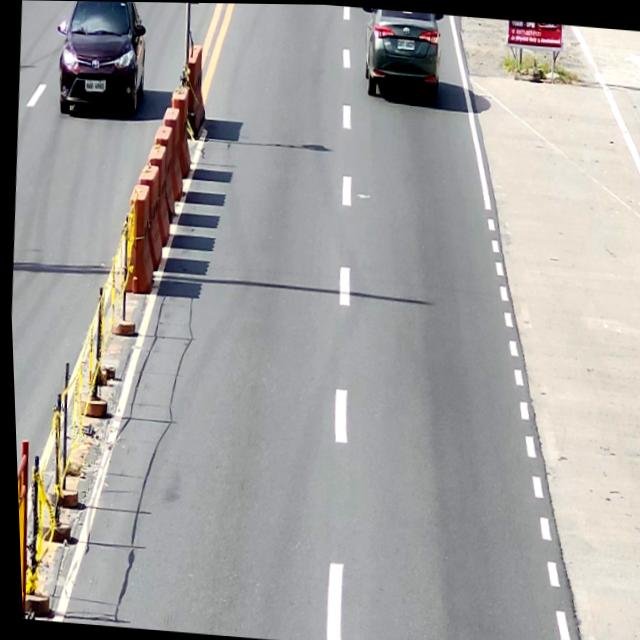Car: (50, 1, 151, 120), (355, 7, 445, 102)
License-Plate: (82, 76, 109, 98), (394, 33, 418, 53)
